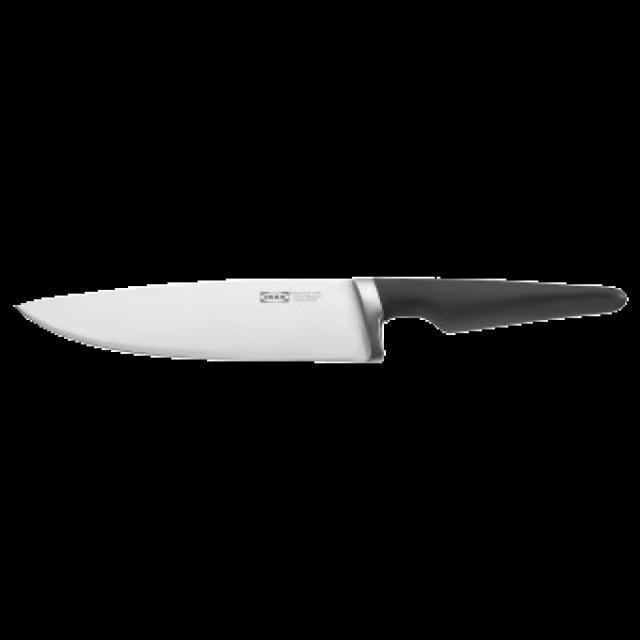knife: (9, 276, 631, 373)
